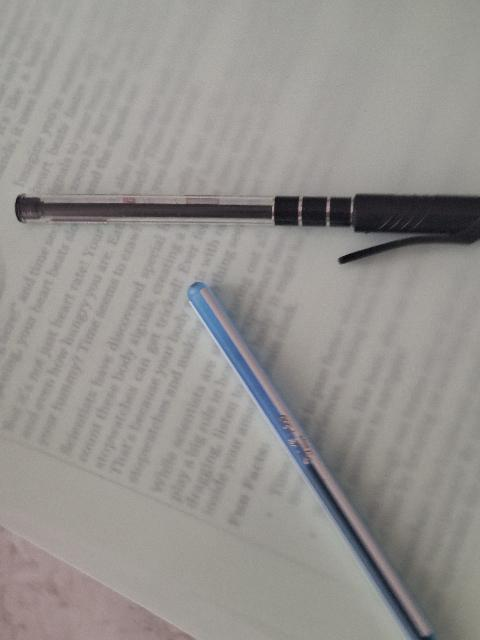writing_tool: (185, 278, 442, 640), (16, 182, 480, 268)
